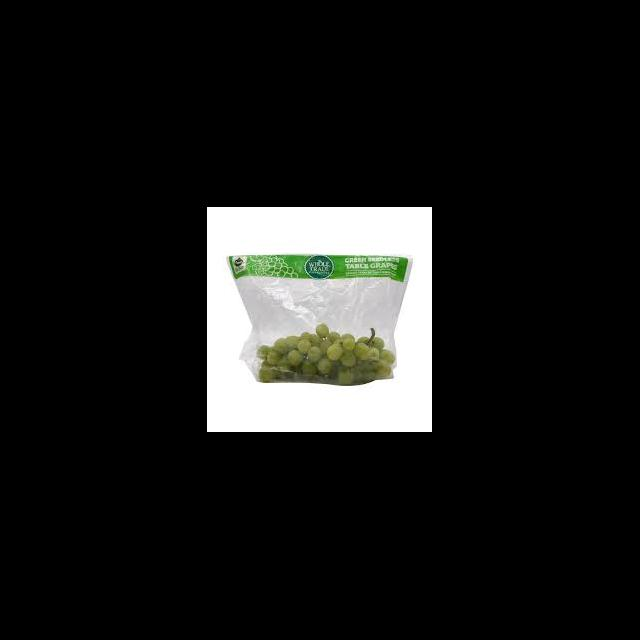grape: (256, 324, 396, 386)
